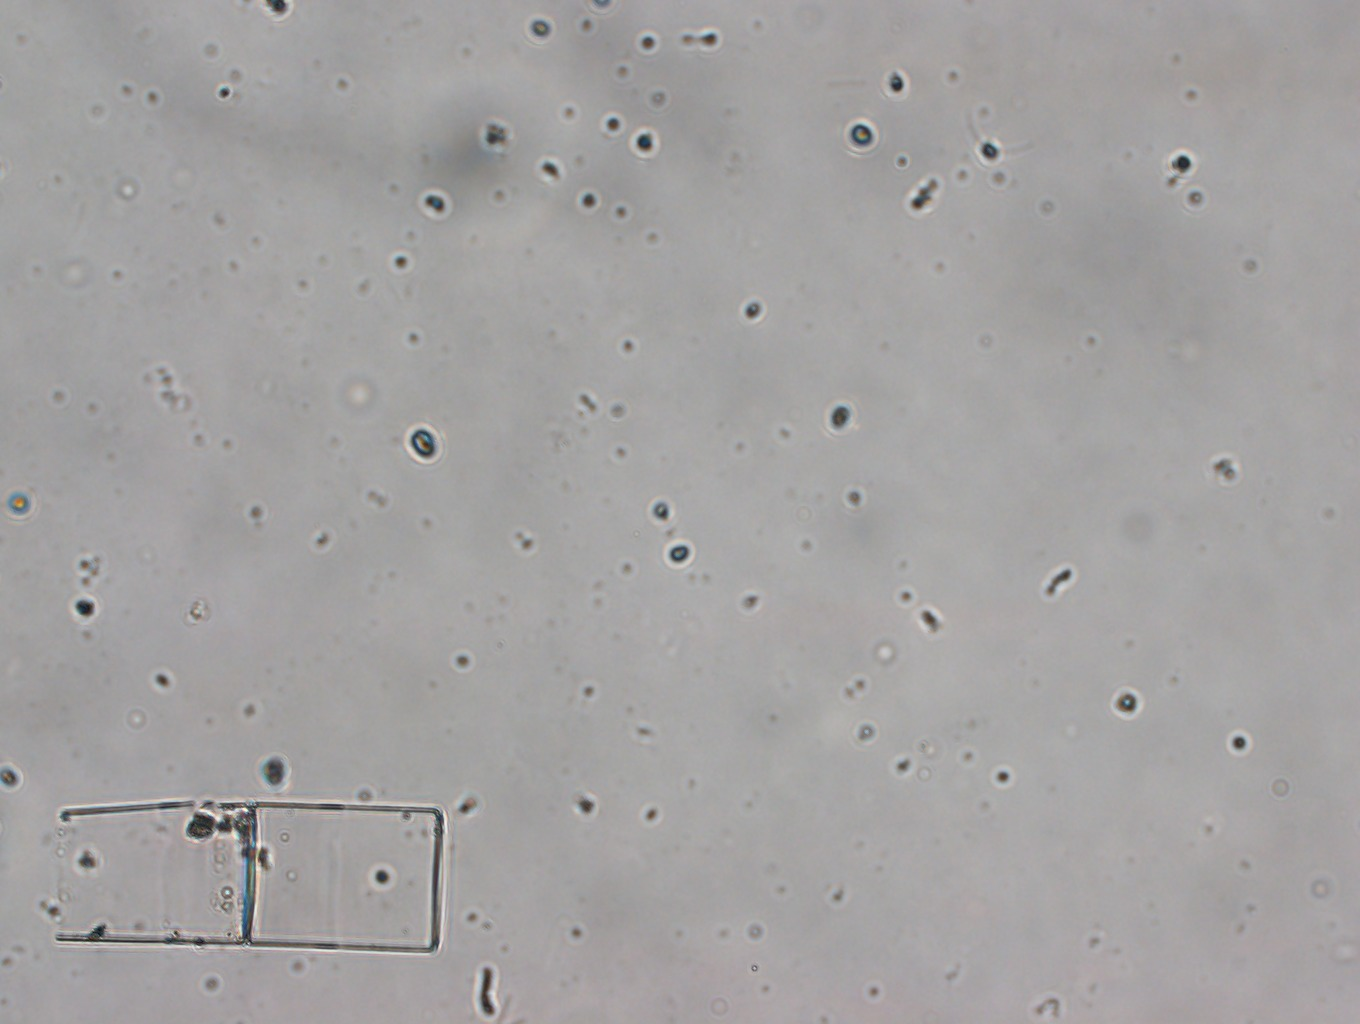guinardia flaccida: (52, 800, 446, 957)
